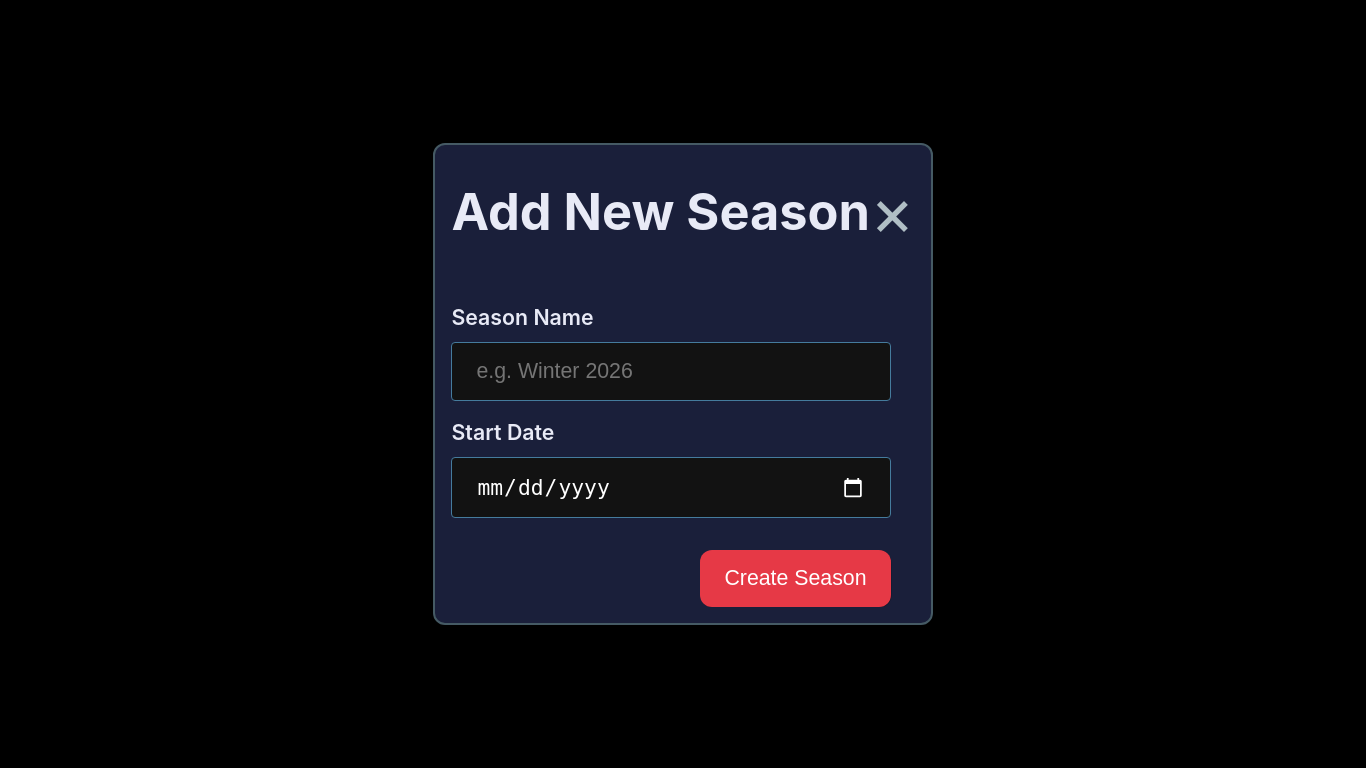
Test: AddSeasonModal Component › shows an error message in the DOM when createSeason fails
Type "Summer 2024" into the field labelled "Season Name" at x=671, y=372, box [451,342,891,401]
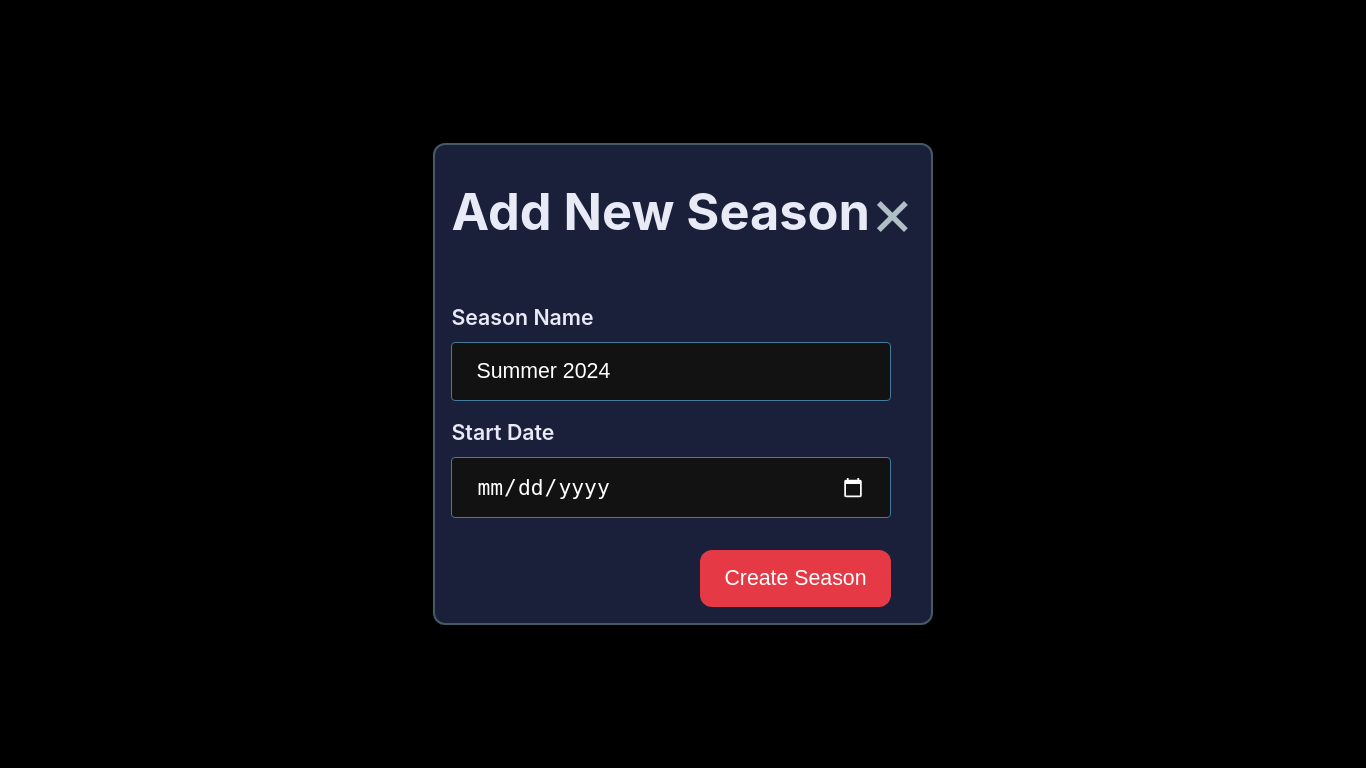
Type "2024-06-01" into the date field labelled "Start Date" at x=671, y=488, box [451,457,891,518]
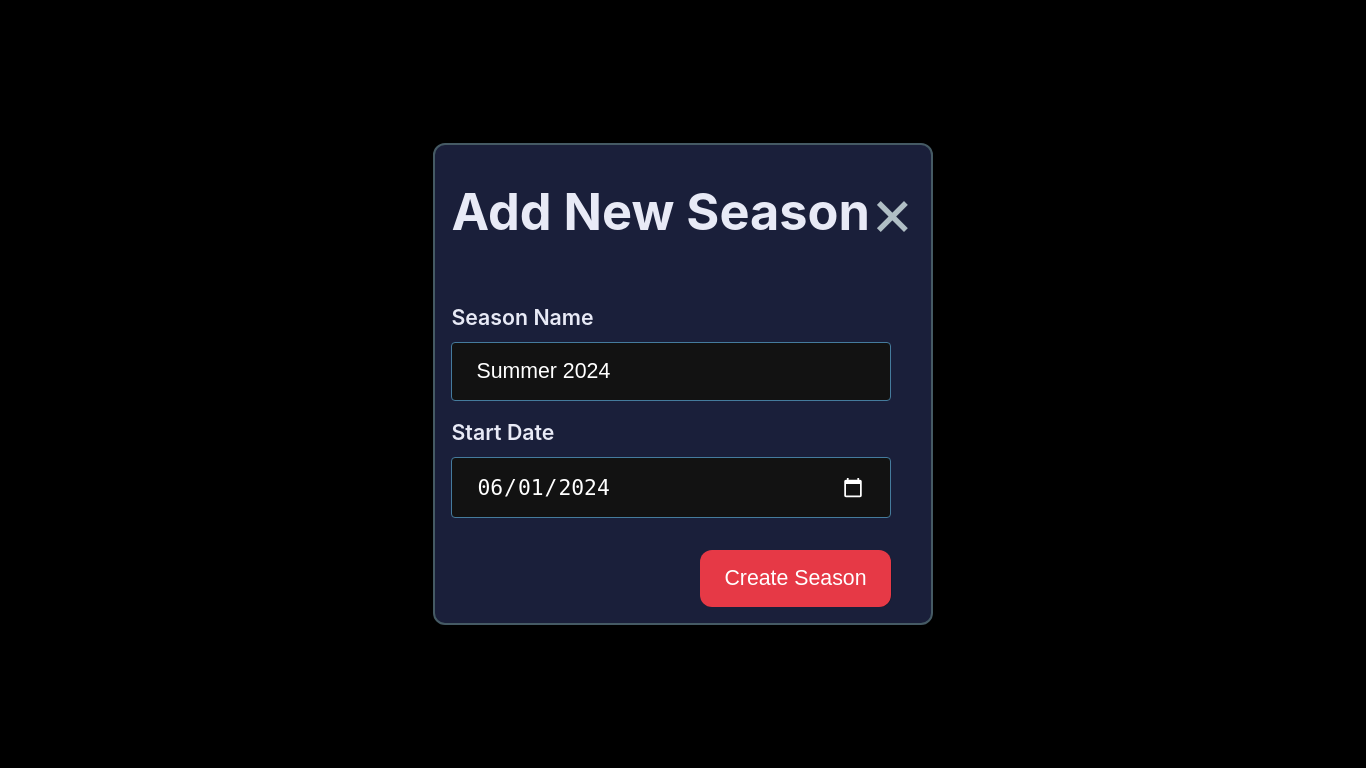
Click the button "Create Season" at x=796, y=578, box [700,550,891,607]
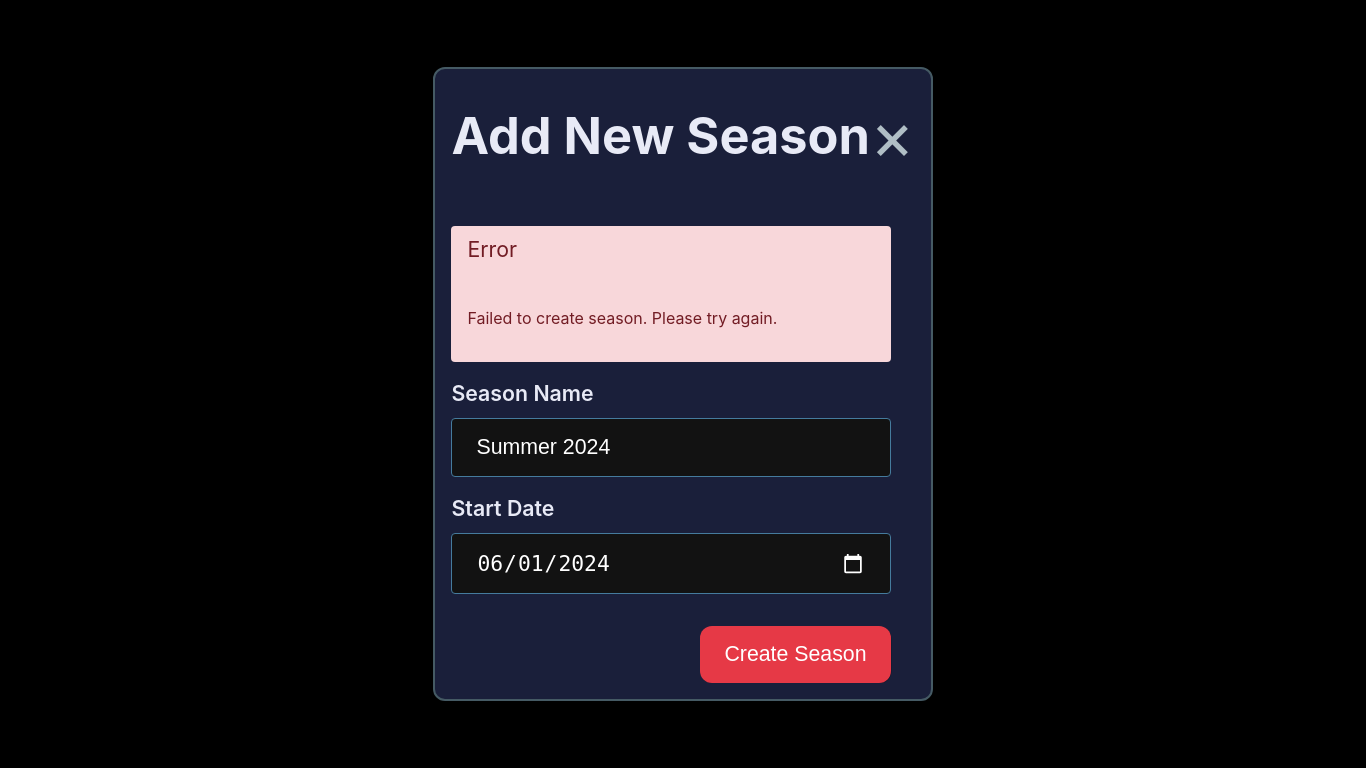
Result: the text "Failed to create season. Please try again." is shown at [467,308,777,328]
